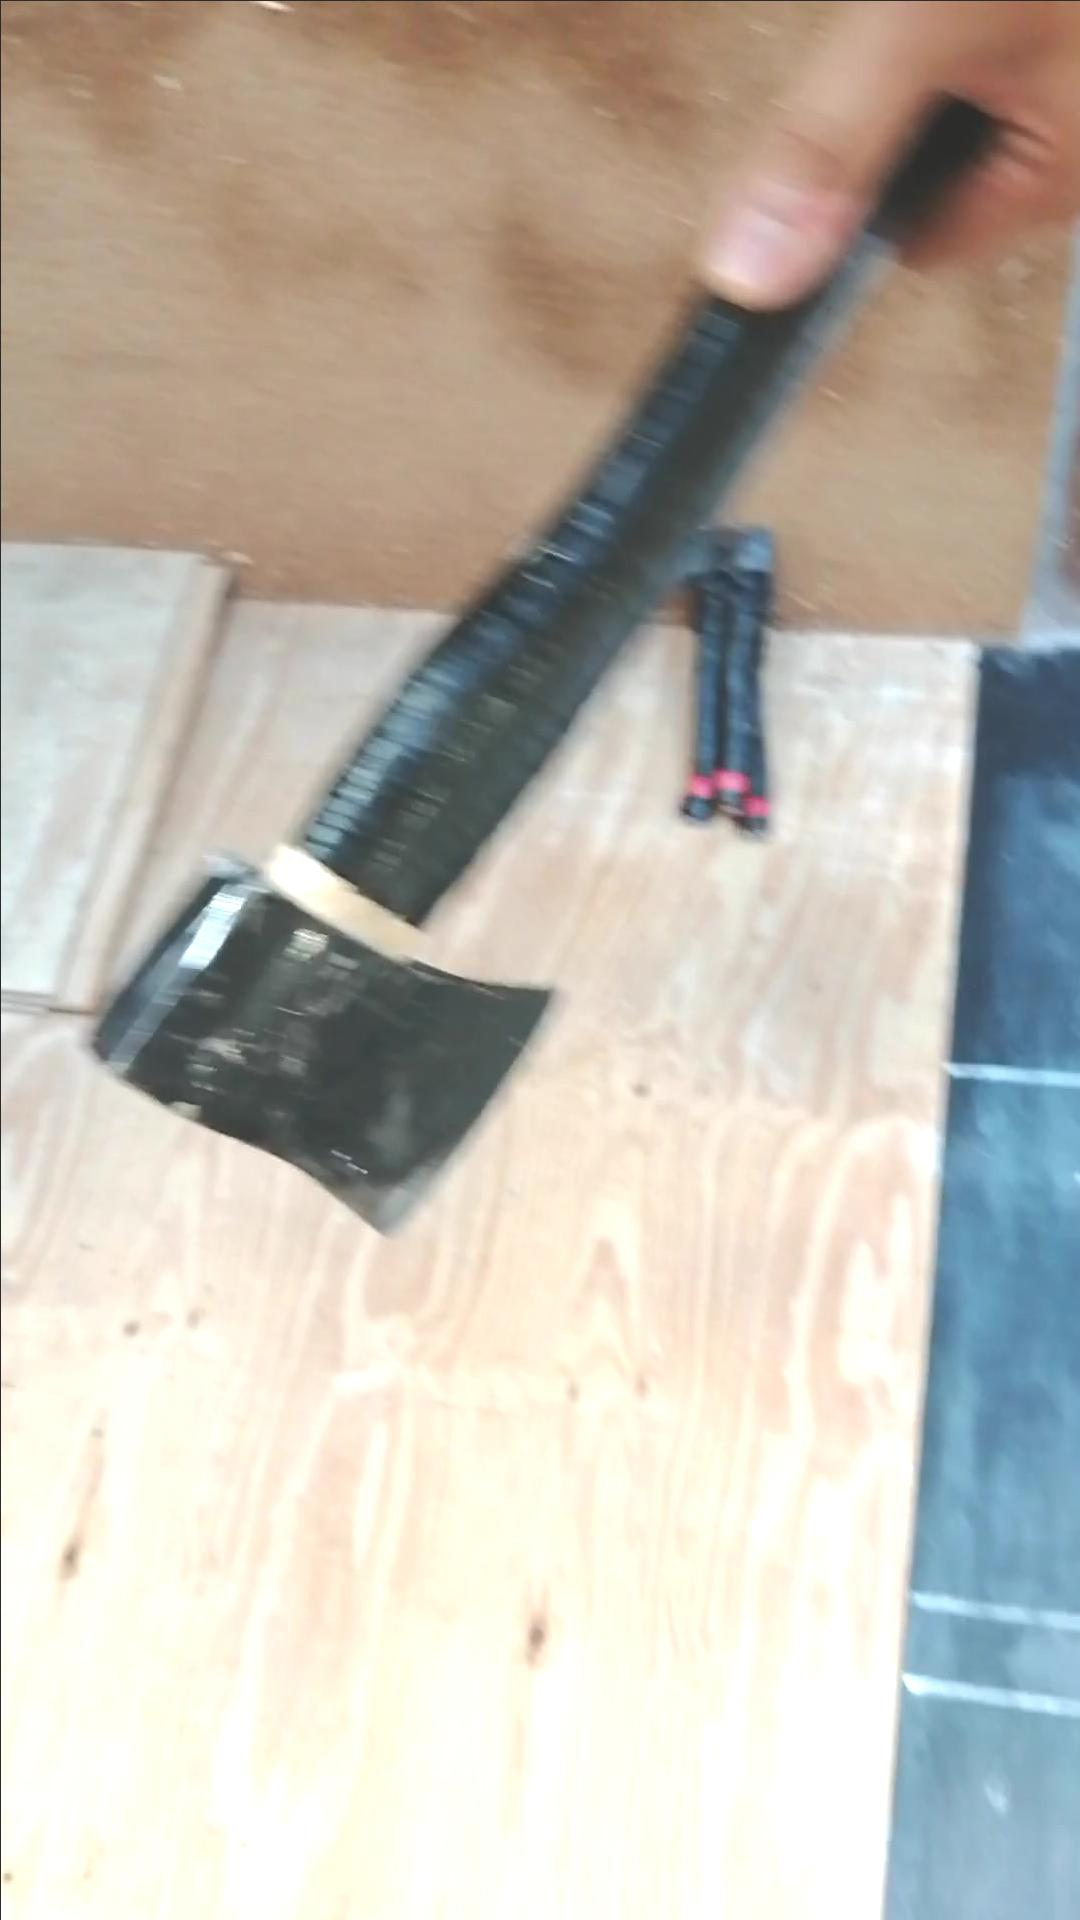Hand Axe: (85, 855, 562, 1242)
